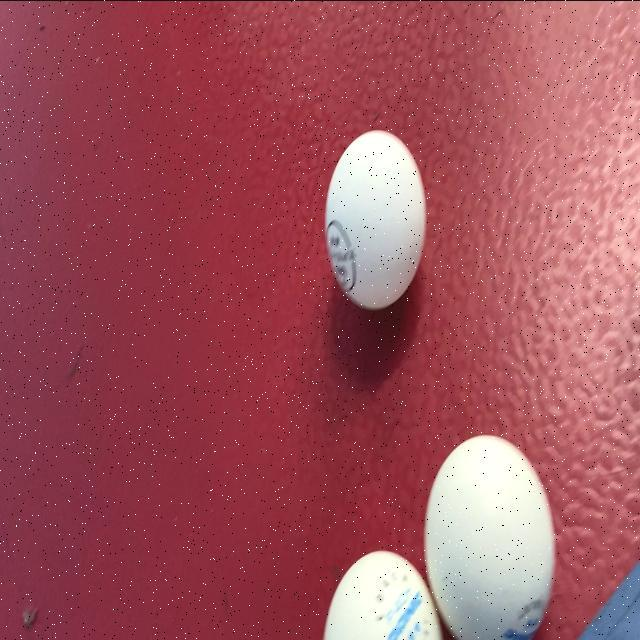ping-pong-ball: (422, 428, 560, 638), (320, 124, 430, 320)
